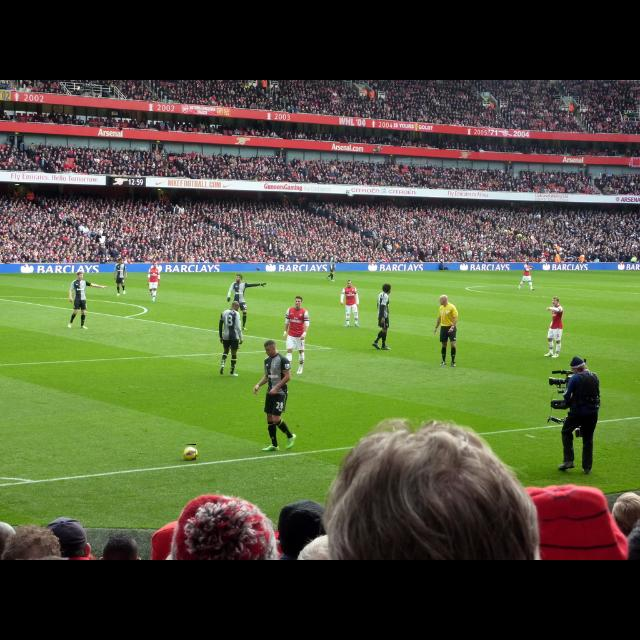Football: (182, 444, 196, 460)
